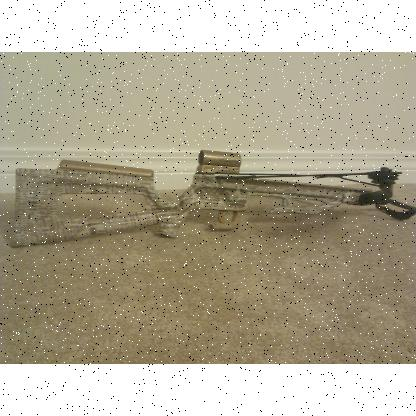gun: (9, 149, 414, 247)
